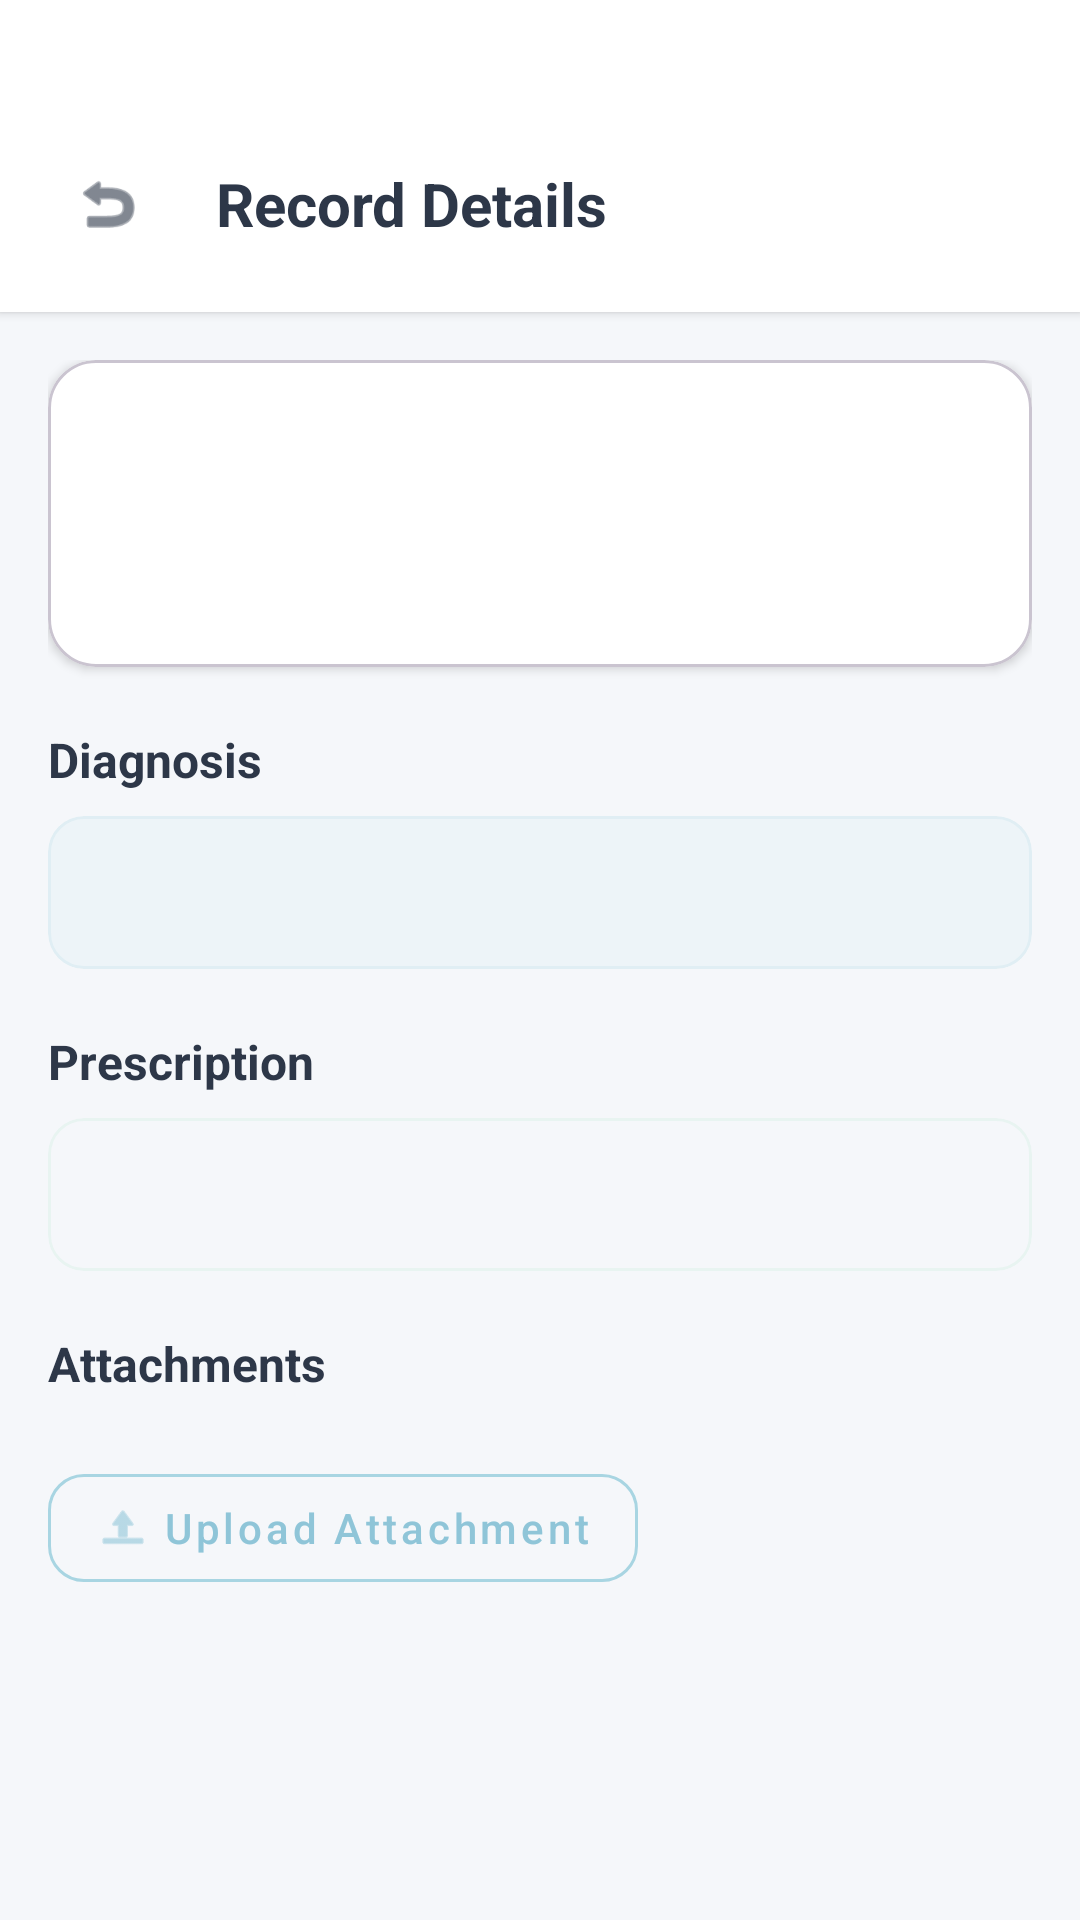

Screen size 1080px x 1920px. Icon name, then its box in pixels as (x1=x1, y1=y1, x2=x2, y2=y2):
revert: (x1=83, y1=181, x2=135, y2=228)
